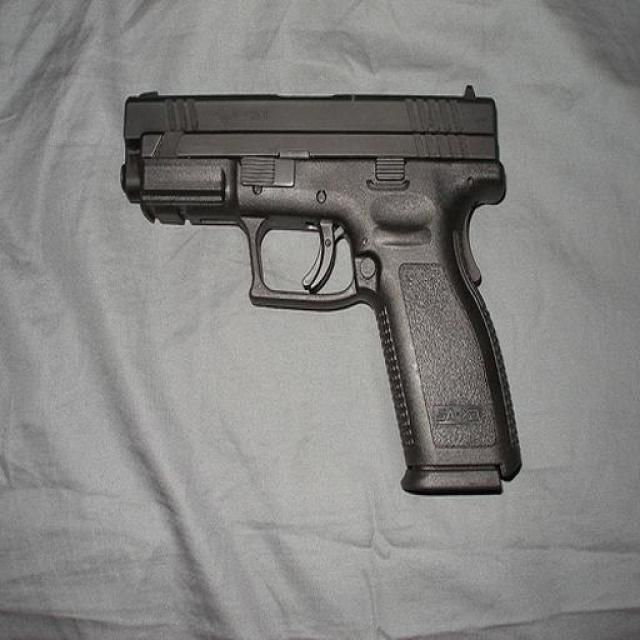pistol: (120, 83, 524, 498)
